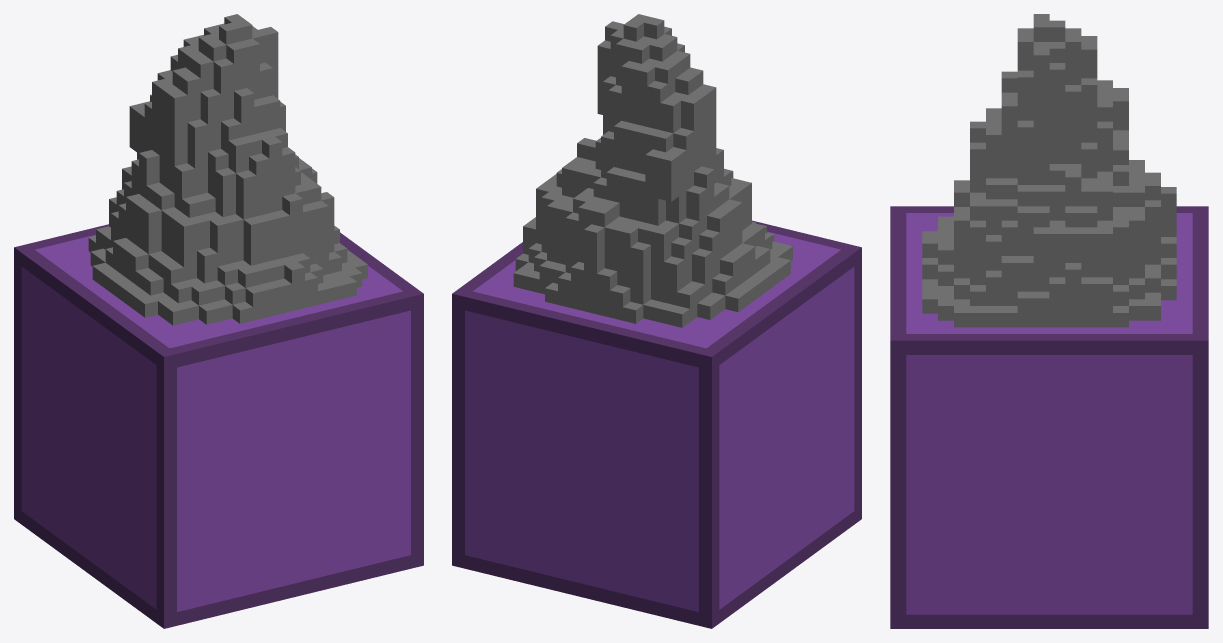
Rendered from rock1.obj.
The picture shows the model from 3 angles, left to right: view 1: azimuth 30°, elevation 25°; view 2: azimuth 150°, elevation 25°; view 3: azimuth 270°, elevation 25°; orthographic projection. The views are drawn at different scales.
Bounding box in the file's own units: 2 × 3.8 × 2.
1 material, 1 textured.
